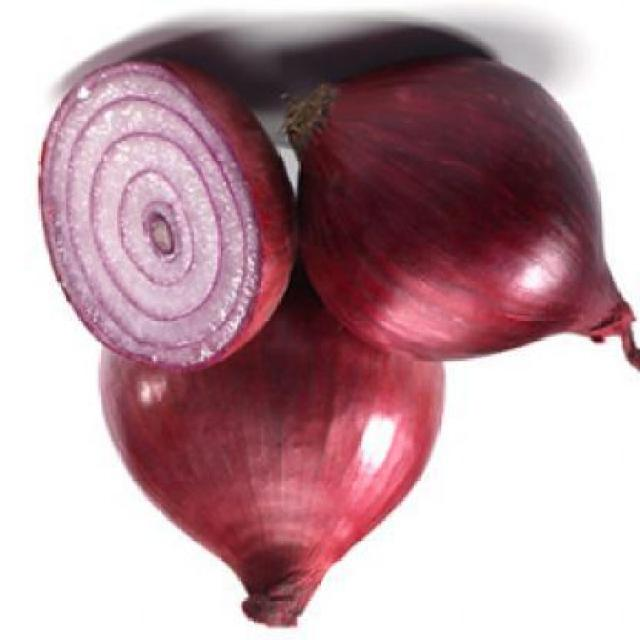onion: (68, 342, 457, 630), (303, 42, 634, 373), (32, 48, 288, 366)
